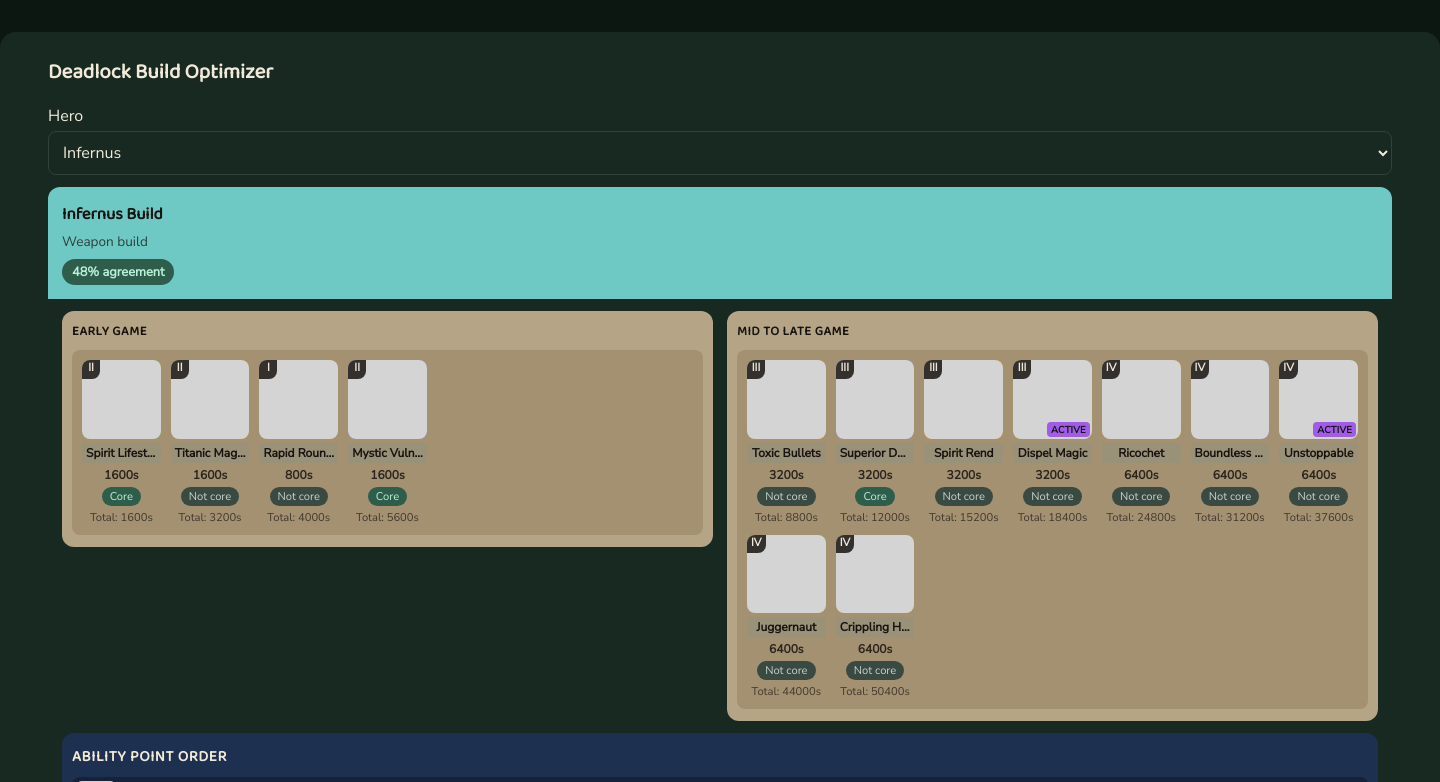
Test: App › Drifter shows a ctc-labeled agreement chip; Infernus's chip stays unlabeled (T20)
Expected: the text "48% agreement" is shown, top-left (62, 259), bottom-right (174, 285)
Select "Drifter" in the dropdown labelled "Hero" at (720, 153), box top-left (48, 131), bottom-right (1392, 175)
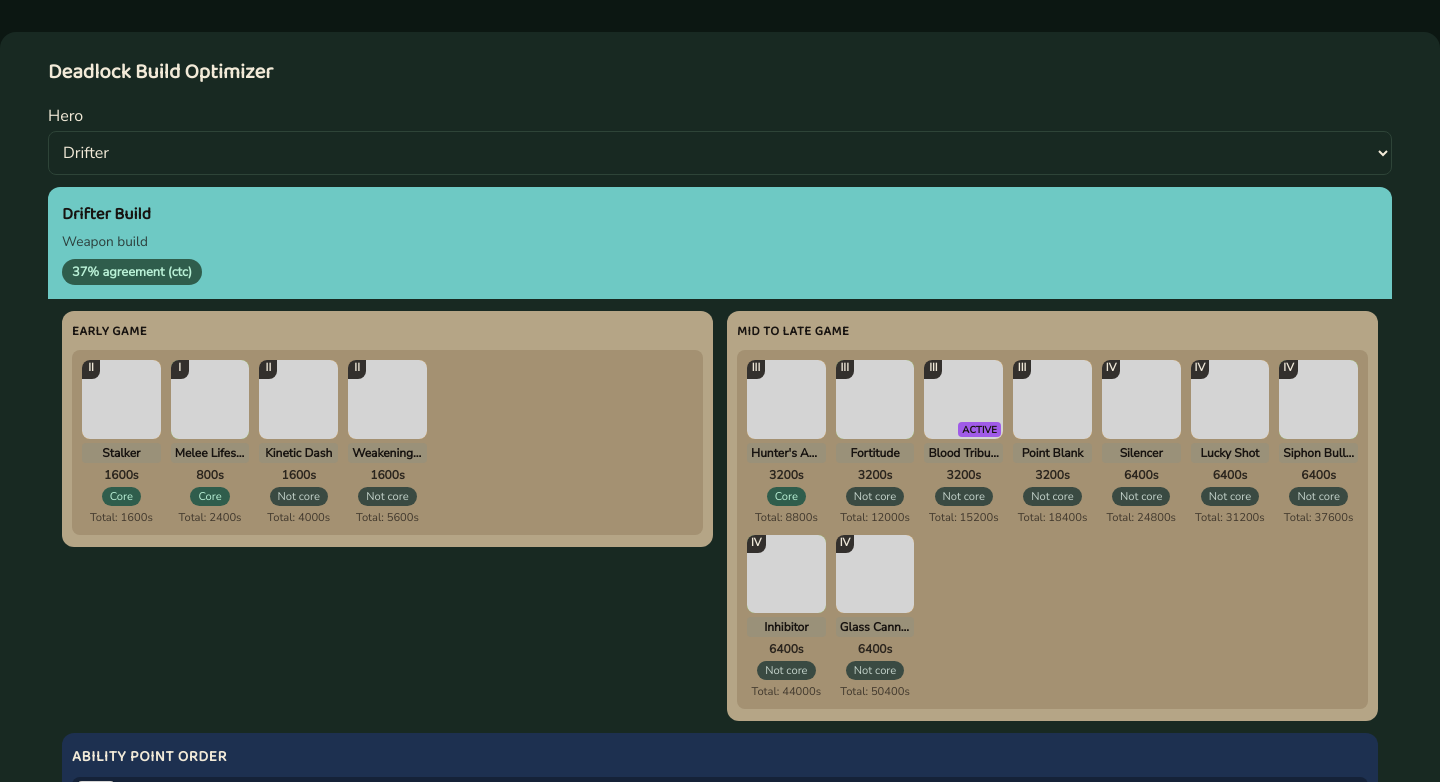
Expected: the text "37% agreement (ctc)" is shown, top-left (62, 259), bottom-right (202, 285)
